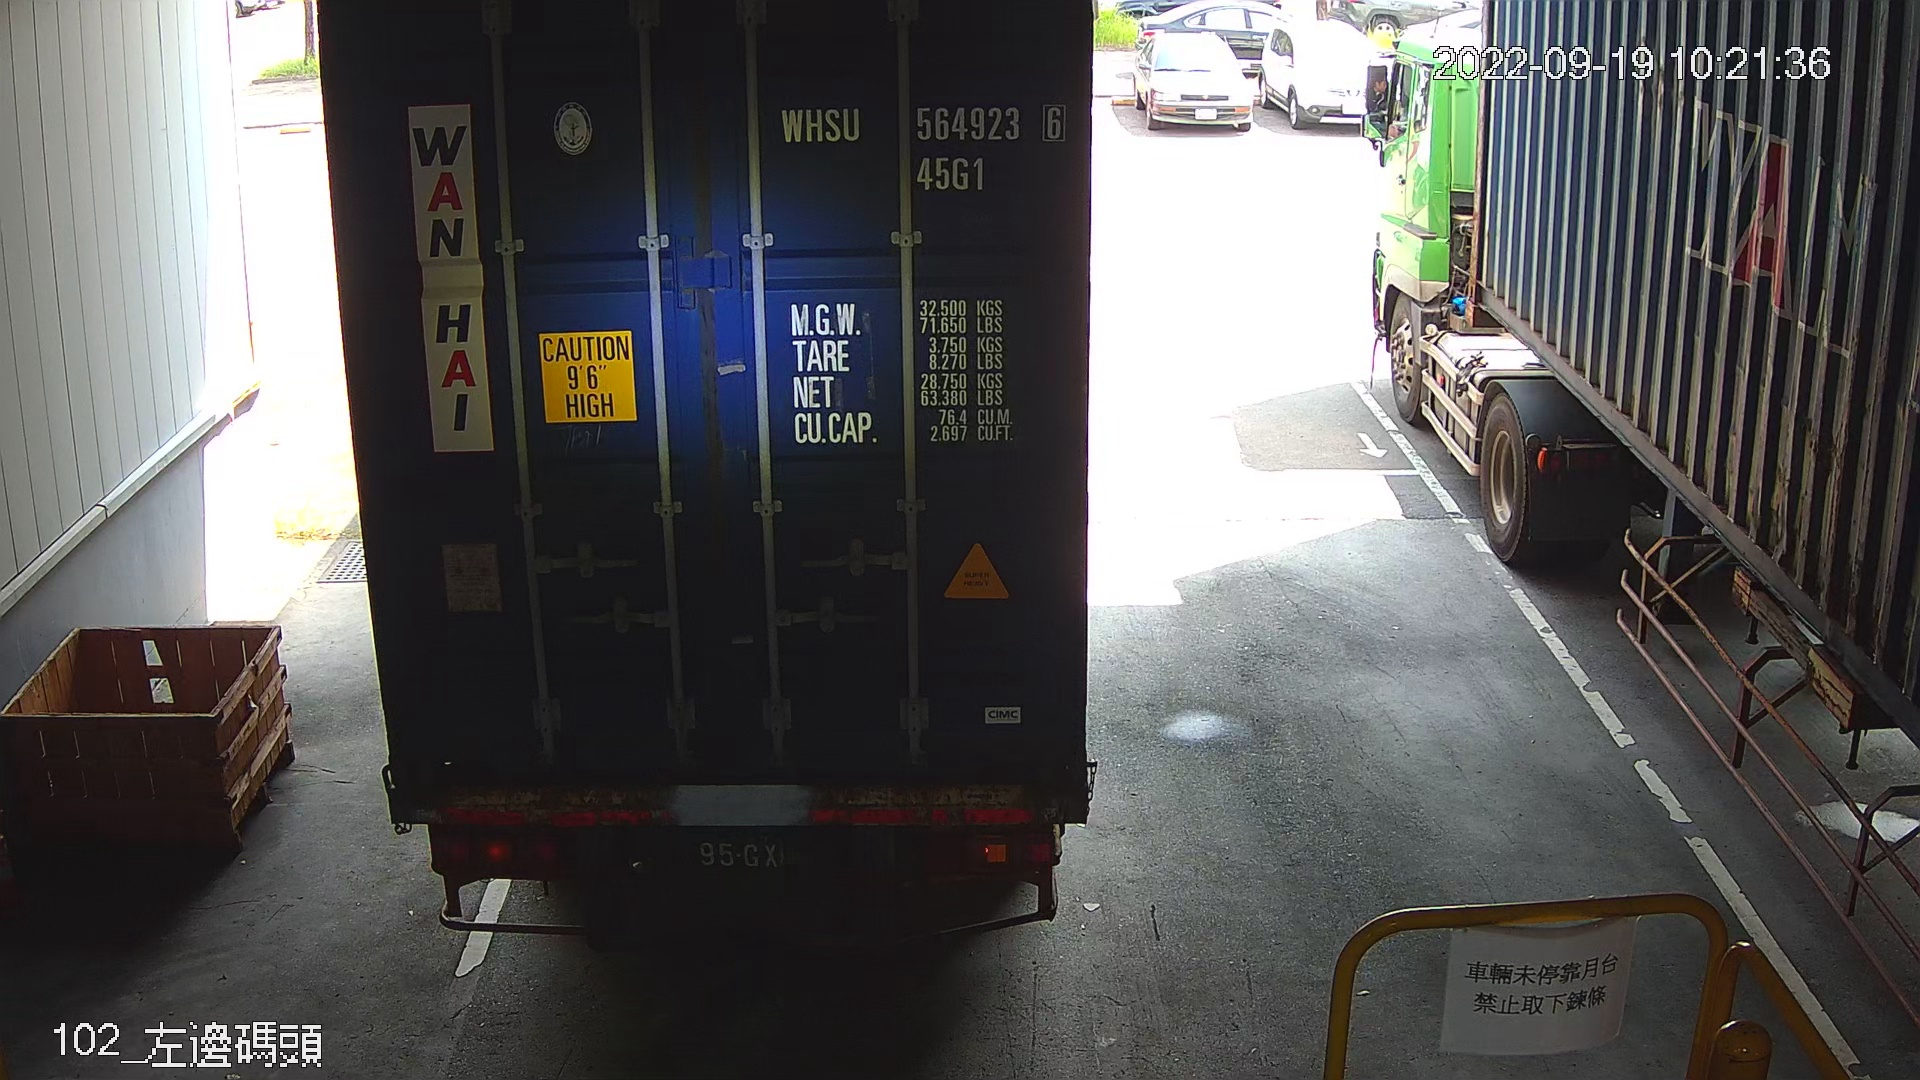container: (770, 95, 1077, 199)
